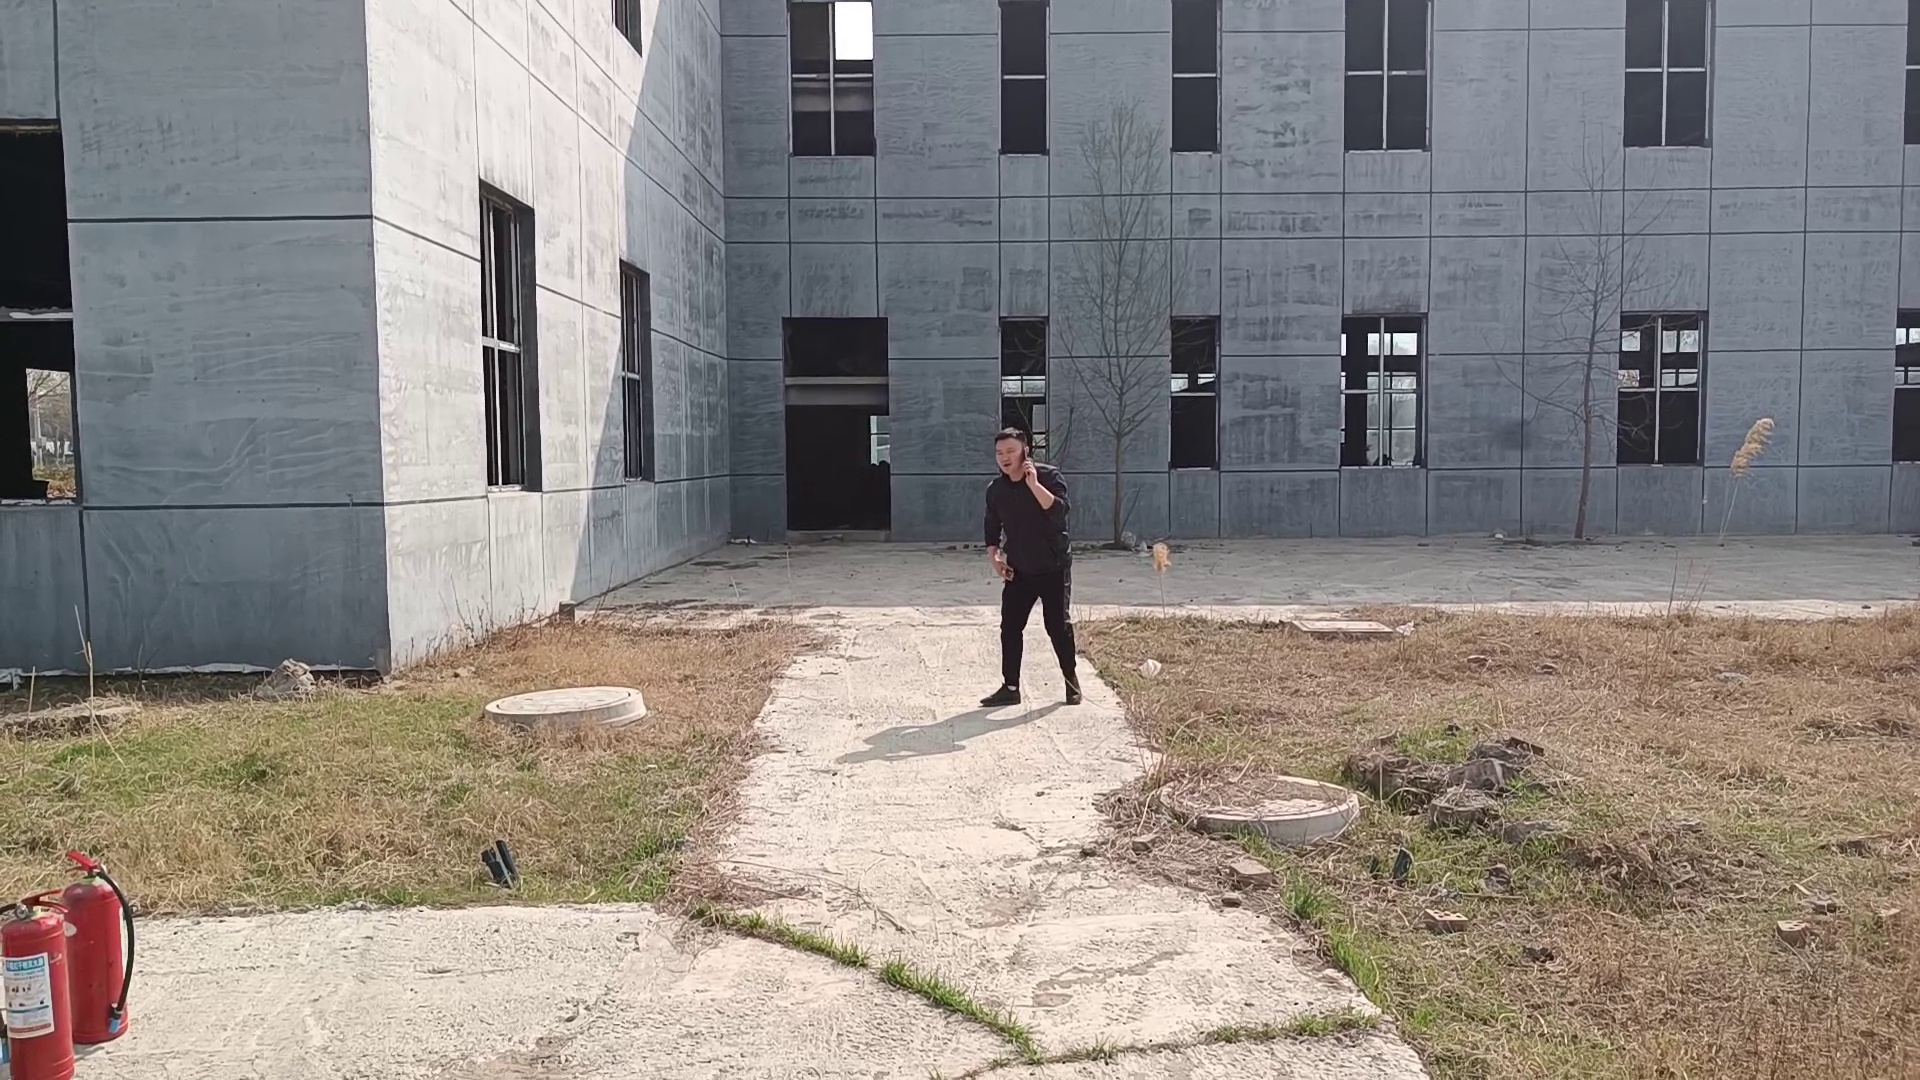phone: (989, 425, 1038, 485)
